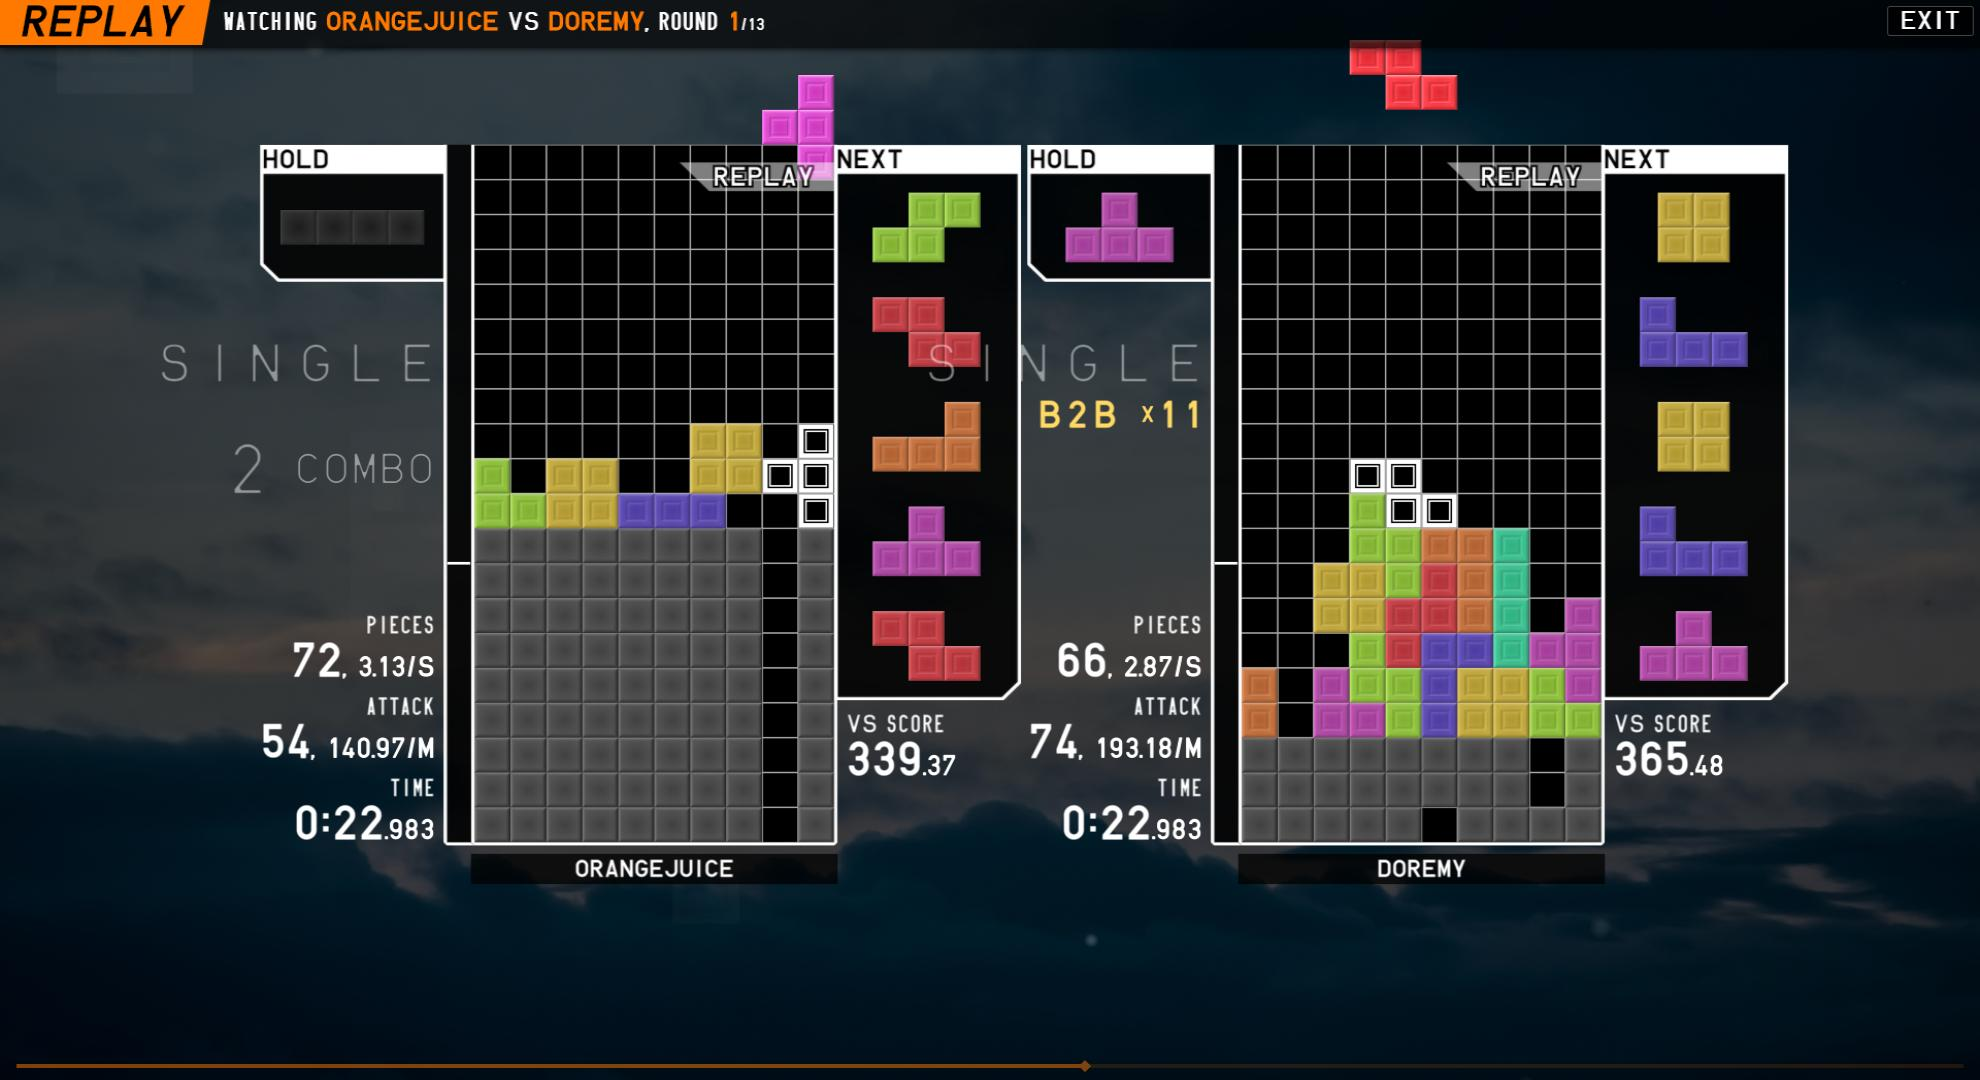tspin: (1231, 596, 1355, 704), (727, 463, 835, 567)
